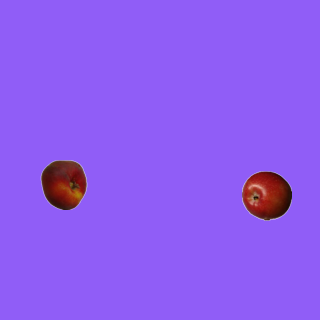Apple Braeburn: (241, 170, 291, 220)
Nectarine Flat: (38, 159, 88, 209)
